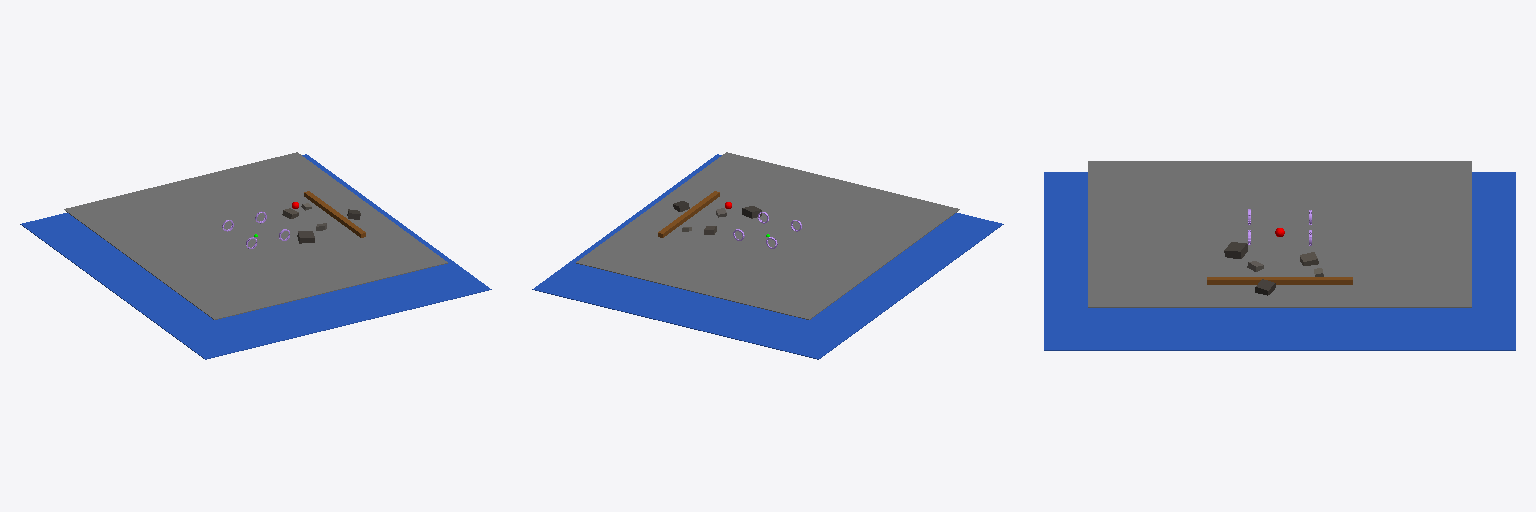
URDF robot description (0724_urdf):
<?xml version="1.0" encoding="utf-8"?>
<!-- This URDF was automatically created by SolidWorks to URDF Exporter! Originally created by Stephen Brawner (brawner@gmail.com) 
     Commit Version: 1.6.0-4-g7f85cfe  Build Version: 1.6.7995.38578
     For more information, please see http://wiki.ros.org/sw_urdf_exporter -->
<robot name="0724_urdf">

  <!-- =================================================================== -->
  <!-- ROOT LINK: ellipsoid_surface (4.341m x 4.852m)                      -->
  <!-- =================================================================== -->
  <link name="ellipsoid_surface">
    <inertial>
      <origin xyz="0 0 0" rpy="0 0 0" />
      <mass value="30.0" />
      <inertia ixx="3.0" ixy="0" ixz="0" iyy="2.4" iyz="0" izz="5.0" />
    </inertial>
    <visual>
      <origin xyz="0 0 0" rpy="0 0 0" />
      <geometry>
        <box size="4.341 4.852 0.01" />
      </geometry>
      <material name="ellipsoid_mat">
        <color rgba="0.2 0.4 0.8 0.5" />
      </material>
    </visual>
    <collision>
      <origin xyz="0 0 0" rpy="0 0 0" />
      <geometry>
        <box size="4.341 4.852 0.01" />
      </geometry>
    </collision>
  </link>

  <!-- =================================================================== -->
  <!-- LINK: ground_sphere (기준 구)                                       -->
  <!-- =================================================================== -->
  <link name="ground_sphere">
    <inertial>
      <origin xyz="0 0 0" rpy="0 0 0" />
      <mass value="0.1" />
      <inertia ixx="0.0001" ixy="0" ixz="0" iyy="0.0001" iyz="0" izz="0.0001" />
    </inertial>
    <visual>
      <origin xyz="0 0 0" rpy="0 0 0" />
      <geometry>
        <sphere radius="0.03" />
      </geometry>
      <material name="green_material">
        <color rgba="0.0 1.0 0.0 1.0" />
      </material>
    </visual>
    <collision>
      <origin xyz="0 0 0" rpy="0 0 0" />
      <geometry>
        <sphere radius="0.03" />
      </geometry>
    </collision>
  </link>

  <joint name="ellipsoid_to_sphere_joint" type="fixed">
    <origin xyz="0 0 0.30" rpy="0 0 0" />
    <parent link="ellipsoid_surface" />
    <child link="ground_sphere" />
  </joint>

  <!-- =================================================================== -->
  <!-- LINK: ground (3.544m x 3.964m)                                     -->
  <!-- =================================================================== -->
  <link name="ground">
    <inertial>
      <origin xyz="0 0 0" rpy="0 0 0" />
      <mass value="10.0" />
      <inertia ixx="0.818" ixy="0" ixz="0" iyy="0.654" iyz="0" izz="1.472" />
    </inertial>
    <visual>
      <origin xyz="0 0 0" rpy="0 0 0" />
      <geometry>
        <box size="3.544 3.964 0.01" />
      </geometry>
      <material name="ground_mat">
        <color rgba="0.5 0.5 0.5 0.8" />
      </material>
    </visual>
    <collision>
      <origin xyz="0 0 0" rpy="0 0 0" />
      <geometry>
        <box size="3.544 3.964 0.01" />
      </geometry>
    </collision>
  </link>

  <joint name="ground_sphere_to_ground_joint" type="fixed">
    <origin xyz="0 0 0" rpy="0 0 0" />
    <parent link="ground_sphere" />
    <child link="ground" />
  </joint>

  <!-- =================================================================== -->
  <!-- ADDED: RECTANGULAR WOOD BAR (직사각형 각목 형태 나무막대)             -->
  <!-- =================================================================== -->
  <link name="obstacle_wood_bar">
    <inertial>
      <origin xyz="0 0 0" rpy="0 0 0" />
      <mass value="2.0" />
      <inertia ixx="0.37" ixy="0" ixz="0" iyy="0.001" iyz="0" izz="0.37" />
    </inertial>
    <visual>
      <origin xyz="0 0 0" rpy="0 0 0" />
      <geometry>
        <!-- 폭 0.08m, 길이 1.5m, 높이 0.06m (바퀴 높이 절반) -->
        <box size="0.08 1.5 0.06" />
      </geometry>
      <material name="wood_mat">
        <color rgba="0.55 0.35 0.15 1.0" />
      </material>
    </visual>
    <collision>
      <origin xyz="0 0 0" rpy="0 0 0" />
      <geometry>
        <box size="0.08 1.5 0.06" />
      </geometry>
    </collision>
  </link>

  <joint name="ground_to_wood_bar_joint" type="fixed">
    <origin xyz="1.2 0.0 0.035" rpy="0 0 0" />
    <parent link="ground" />
    <child link="obstacle_wood_bar" />
  </joint>

  <!-- =================================================================== -->
  <!-- ADDED: MULTIPLE ROCKS (다양한 위치의 돌멩이 군집)                   -->
  <!-- =================================================================== -->
  <!-- Rock 1 -->
  <link name="obstacle_rock_1">
    <inertial>
      <origin xyz="0 0 0" rpy="0 0 0" />
      <mass value="1.5" />
      <inertia ixx="0.005" ixy="0" ixz="0" iyy="0.005" iyz="0" izz="0.005" />
    </inertial>
    <visual>
      <origin xyz="0 0 0" rpy="0 0 0" />
      <geometry>
        <box size="0.14 0.16 0.07" />
      </geometry>
      <material name="rock_mat_1">
        <color rgba="0.38 0.35 0.32 1.0" />
      </material>
    </visual>
    <collision>
      <origin xyz="0 0 0" rpy="0 0 0" />
      <geometry>
        <box size="0.14 0.16 0.07" />
      </geometry>
    </collision>
  </link>

  <joint name="ground_to_rock_1_joint" type="fixed">
    <origin xyz="0.7 0.3 0.04" rpy="0.1 0.15 0.3" />
    <parent link="ground" />
    <child link="obstacle_rock_1" />
  </joint>

  <!-- Rock 2 -->
  <link name="obstacle_rock_2">
    <inertial>
      <origin xyz="0 0 0" rpy="0 0 0" />
      <mass value="1.2" />
      <inertia ixx="0.004" ixy="0" ixz="0" iyy="0.004" iyz="0" izz="0.004" />
    </inertial>
    <visual>
      <origin xyz="0 0 0" rpy="0 0 0" />
      <geometry>
        <box size="0.12 0.12 0.06" />
      </geometry>
      <material name="rock_mat_2">
        <color rgba="0.42 0.40 0.38 1.0" />
      </material>
    </visual>
    <collision>
      <origin xyz="0 0 0" rpy="0 0 0" />
      <geometry>
        <box size="0.12 0.12 0.06" />
      </geometry>
    </collision>
  </link>

  <joint name="ground_to_rock_2_joint" type="fixed">
    <origin xyz="0.85 -0.25 0.035" rpy="-0.2 0.1 0.8" />
    <parent link="ground" />
    <child link="obstacle_rock_2" />
  </joint>

  <!-- Rock 3 -->
  <link name="obstacle_rock_3">
    <inertial>
      <origin xyz="0 0 0" rpy="0 0 0" />
      <mass value="2.2" />
      <inertia ixx="0.008" ixy="0" ixz="0" iyy="0.008" iyz="0" izz="0.008" />
    </inertial>
    <visual>
      <origin xyz="0 0 0" rpy="0 0 0" />
      <geometry>
        <box size="0.18 0.20 0.09" />
      </geometry>
      <material name="rock_mat_3">
        <color rgba="0.32 0.30 0.28 1.0" />
      </material>
    </visual>
    <collision>
      <origin xyz="0 0 0" rpy="0 0 0" />
      <geometry>
        <box size="0.18 0.20 0.09" />
      </geometry>
    </collision>
  </link>

  <joint name="ground_to_rock_3_joint" type="fixed">
    <origin xyz="0.5 -0.45 0.05" rpy="0.05 -0.1 1.2" />
    <parent link="ground" />
    <child link="obstacle_rock_3" />
  </joint>

  <!-- Rock 4 -->
  <link name="obstacle_rock_4">
    <inertial>
      <origin xyz="0 0 0" rpy="0 0 0" />
      <mass value="0.8" />
      <inertia ixx="0.002" ixy="0" ixz="0" iyy="0.002" iyz="0" izz="0.002" />
    </inertial>
    <visual>
      <origin xyz="0 0 0" rpy="0 0 0" />
      <geometry>
        <box size="0.10 0.09 0.05" />
      </geometry>
      <material name="rock_mat_4">
        <color rgba="0.45 0.43 0.40 1.0" />
      </material>
    </visual>
    <collision>
      <origin xyz="0 0 0" rpy="0 0 0" />
      <geometry>
        <box size="0.10 0.09 0.05" />
      </geometry>
    </collision>
  </link>

  <joint name="ground_to_rock_4_joint" type="fixed">
    <origin xyz="1.0 0.4 0.03" rpy="0.2 0.2 0.1" />
    <parent link="ground" />
    <child link="obstacle_rock_4" />
  </joint>

  <!-- Rock 5 -->
  <link name="obstacle_rock_5">
    <inertial>
      <origin xyz="0 0 0" rpy="0 0 0" />
      <mass value="1.8" />
      <inertia ixx="0.006" ixy="0" ixz="0" iyy="0.006" iyz="0" izz="0.006" />
    </inertial>
    <visual>
      <origin xyz="0 0 0" rpy="0 0 0" />
      <geometry>
        <box size="0.16 0.15 0.08" />
      </geometry>
      <material name="rock_mat_5">
        <color rgba="0.30 0.28 0.26 1.0" />
      </material>
    </visual>
    <collision>
      <origin xyz="0 0 0" rpy="0 0 0" />
      <geometry>
        <box size="0.16 0.15 0.08" />
      </geometry>
    </collision>
  </link>

  <joint name="ground_to_rock_5_joint" type="fixed">
    <origin xyz="1.4 -0.15 0.045" rpy="-0.1 0.15 -0.5" />
    <parent link="ground" />
    <child link="obstacle_rock_5" />
  </joint>

  <!-- =================================================================== -->
  <!-- CAR FRAME                                                           -->
  <!-- =================================================================== -->
  <link name="car_frame">
    <inertial>
      <origin xyz="-0.0699924818342827 4.77680336962046E-09 0.266986488786553" rpy="0 0 0" />
      <mass value="4.36726752622487" />
      <inertia ixx="0.120130237589006" ixy="2.47975489095435E-06" ixz="-3.27227207151588E-05" iyy="0.191286662671253" iyz="2.68105956435735E-10" izz="0.301245720968892" />
    </inertial>
    <visual>
      <origin xyz="0 0 0" rpy="0 0 0" />
      <geometry>
        <mesh filename="../meshes/car_frame.STL" />
      </geometry>
      <material name="car_frame_mat">
        <color rgba="0.894117647058823 0.894117647058823 0.894117647058823 1" />
      </material>
    </visual>
    <collision>
      <origin xyz="0 0 0" rpy="0 0 0" />
      <geometry>
        <mesh filename="../meshes/car_frame.STL" />
      </geometry>
    </collision>
  </link>

  <joint name="ground_to_car_frame_joint" type="fixed">
    <origin xyz="0 0 0.005" rpy="0 0 0" />
    <parent link="ground" />
    <child link="car_frame" />
  </joint>

  <!-- =================================================================== -->
  <!-- LINK: RED SPHERE (전방 X축 배치)                                   -->
  <!-- =================================================================== -->
  <link name="front_target_sphere">
    <inertial>
      <origin xyz="0 0 0" rpy="0 0 0" />
      <mass value="0.05" />
      <inertia ixx="0.00005" ixy="0" ixz="0" iyy="0.00005" iyz="0" izz="0.00005" />
    </inertial>
    <visual>
      <origin xyz="0 0 0" rpy="0 0 0" />
      <geometry>
        <sphere radius="0.05" />
      </geometry>
      <material name="red_material">
        <color rgba="1.0 0.0 0.0 1.0" />
      </material>
    </visual>
    <collision>
      <origin xyz="0 0 0" rpy="0 0 0" />
      <geometry>
        <sphere radius="0.05" />
      </geometry>
    </collision>
  </link>

  <joint name="front_target_joint" type="fixed">
    <origin xyz="0.6 0 0.3" rpy="0 0 0" />
    <parent link="car_frame" />
    <child link="front_target_sphere" />
  </joint>

  <!-- =================================================================== -->
  <!-- SWING & WHEELS                                                      -->
  <!-- =================================================================== -->
  <link name="swing_link">
    <inertial>
      <origin xyz="2.89027833825533E-08 0.0605903676257634 0.00266440834148721" rpy="0 0 0" />
      <mass value="1.44344385530309" />
      <inertia ixx="0.00290322324922314" ixy="-5.3629396489287E-10" ixz="-2.47940935714728E-06" iyy="0.00598687173589356" iyz="3.64864367309232E-06" izz="0.00529337280538947" />
    </inertial>
    <visual>
      <origin xyz="0 0 0" rpy="0 0 0" />
      <geometry>
        <mesh filename="../meshes/swing_link.STL" />
      </geometry>
      <material name="swing_mat">
        <color rgba="0.894117647058823 0.894117647058823 0.894117647058823 1" />
      </material>
    </visual>
    <collision>
      <origin xyz="0 0 0" rpy="0 0 0" />
      <geometry>
        <mesh filename="../meshes/swing_link.STL" />
      </geometry>
    </collision>
  </link>

  <joint name="swing_joint" type="revolute">
    <origin xyz="0.226 0 0.19572" rpy="-1.5708 0 -1.5708" />
    <parent link="car_frame" />
    <child link="swing_link" />
    <axis xyz="0 0 1" />
    <limit lower="-0.2" upper="0.2" effort="10.0" velocity="1.0" />
  </joint>

  <!-- WHEEL FR & TIRE FR -->
  <link name="wheel_fr">
    <inertial>
      <origin xyz="-0.00570311862923931 0.0422312078327481 -0.00829956160844914" rpy="0 0 0" />
      <mass value="0.304138859926848" />
      <inertia ixx="0.000395045316087024" ixy="-2.69138802125918E-06" ixz="-4.80158404940406E-07" iyy="0.000414316538014111" iyz="3.47729172120058E-06" izz="0.000760266253987474" />
    </inertial>
    <visual>
      <origin xyz="0 0 0" rpy="0 0 0" />
      <geometry>
        <mesh filename="../meshes/wheel_fr.STL" />
      </geometry>
      <material name="green_wheel">
        <color rgba="0 1 0 1" />
      </material>
    </visual>
    <collision>
      <origin xyz="0 0 0" rpy="0 0 0" />
      <geometry>
        <mesh filename="../meshes/wheel_fr.STL" />
      </geometry>
    </collision>
  </link>

  <joint name="wheel_fr_joint" type="continuous">
    <origin xyz="0.32225 0.1648 0.03" rpy="1.5708 -1.5108 1.5708" />
    <parent link="swing_link" />
    <child link="wheel_fr" />
    <axis xyz="0 0 -1" />
  </joint>

  <link name="tire_fr">
    <inertial>
      <origin xyz="7.76422831502976E-05 0.00868726029411421 0.0001059050331738" rpy="0 0 0" />
      <mass value="0.165142633558274" />
      <inertia ixx="0.000463075796975926" ixy="-5.44937415188666E-09" ixz="7.50961713471071E-07" iyy="0.000907319831290129" iyz="-7.43304666822633E-09" izz="0.000463549564232601" />
    </inertial>
    <visual>
      <origin xyz="0 0 0" rpy="0 0 0" />
      <geometry>
        <mesh filename="../meshes/tire_fr.STL" />
      </geometry>
      <material name="purple_tire">
        <color rgba="0.796078431372549 0.623529411764706 1 1" />
      </material>
    </visual>
    <collision>
      <origin xyz="0 0 0" rpy="0 0 0" />
      <geometry>
        <mesh filename="../meshes/tire_fr.STL" />
      </geometry>
    </collision>
  </link>

  <joint name="tire_fr_joint" type="continuous">
    <origin xyz="-0.0064373 0.047566 0.003" rpy="-1.5708 0 -2.4469" />
    <parent link="wheel_fr" />
    <child link="tire_fr" />
    <axis xyz="0 1 0" />
  </joint>

  <!-- WHEEL FL & TIRE FL -->
  <link name="wheel_fl">
    <inertial>
      <origin xyz="-0.00570311862923928 0.0422312078327481 -0.00829956160844919" rpy="0 0 0" />
      <mass value="0.304138859926847" />
      <inertia ixx="0.000395045316087023" ixy="-2.69138802125915E-06" ixz="-4.80158404940521E-07" iyy="0.00041431653801411" iyz="3.47729172120065E-06" izz="0.000760266253987473" />
    </inertial>
    <visual>
      <origin xyz="0 0 0" rpy="0 0 0" />
      <geometry>
        <mesh filename="../meshes/wheel_fl.STL" />
      </geometry>
      <material name="green_wheel" />
    </visual>
    <collision>
      <origin xyz="0 0 0" rpy="0 0 0" />
      <geometry>
        <mesh filename="../meshes/wheel_fl.STL" />
      </geometry>
    </collision>
  </link>

  <joint name="wheel_fl_joint" type="continuous">
    <origin xyz="-0.32225 0.1648 0.03" rpy="-1.5708 1.5108 1.5708" />
    <parent link="swing_link" />
    <child link="wheel_fl" />
    <axis xyz="0 0 1" />
  </joint>

  <link name="tire_fl">
    <inertial>
      <origin xyz="7.7642283151047E-05 0.00868726029411437 0.000105905033174342" rpy="0 0 0" />
      <mass value="0.165142633558273" />
      <inertia ixx="0.000463075796975928" ixy="-5.44937415162008E-09" ixz="7.5096171347E-07" iyy="0.000907319831290127" iyz="-7.43304666820223E-09" izz="0.000463549564232599" />
    </inertial>
    <visual>
      <origin xyz="0 0 0" rpy="0 0 0" />
      <geometry>
        <mesh filename="../meshes/tire_fl.STL" />
      </geometry>
      <material name="purple_tire" />
    </visual>
    <collision>
      <origin xyz="0 0 0" rpy="0 0 0" />
      <geometry>
        <mesh filename="../meshes/tire_fl.STL" />
      </geometry>
    </collision>
  </link>

  <joint name="tire_fl_joint" type="continuous">
    <origin xyz="-0.0064373 0.047566 0.003" rpy="-1.5708 0 -2.4469" />
    <parent link="wheel_fl" />
    <child link="tire_fl" />
    <axis xyz="0 -1 0" />
  </joint>

  <!-- WHEEL RR & TIRE RR -->
  <link name="wheel_rr">
    <inertial>
      <origin xyz="-0.00570311862923931 0.0422312078327481 -0.00829956160844908" rpy="0 0 0" />
      <mass value="0.304138859926848" />
      <inertia ixx="0.000395045316087024" ixy="-2.6913880212591E-06" ixz="-4.80158404939289E-07" iyy="0.000414316538014111" iyz="3.47729172120071E-06" izz="0.000760266253987474" />
    </inertial>
    <visual>
      <origin xyz="0 0 0" rpy="0 0 0" />
      <geometry>
        <mesh filename="../meshes/wheel_rr.STL" />
      </geometry>
      <material name="green_wheel" />
    </visual>
    <collision>
      <origin xyz="0 0 0" rpy="0 0 0" />
      <geometry>
        <mesh filename="../meshes/wheel_rr.STL" />
      </geometry>
    </collision>
  </link>

  <joint name="wheel_rr_joint" type="continuous">
    <origin xyz="-0.244 -0.32225 0.030922" rpy="1.5708 0.059958 0" />
    <parent link="car_frame" />
    <child link="wheel_rr" />
    <axis xyz="0 0 -1" />
  </joint>

  <link name="tire_rr">
    <inertial>
      <origin xyz="7.76422831505197E-05 0.00868726029411432 0.00010590503317362" rpy="0 0 0" />
      <mass value="0.165142633558276" />
      <inertia ixx="0.00046307579697593" ixy="-5.44937415025454E-09" ixz="7.50961713472426E-07" iyy="0.000907319831290135" iyz="-7.43304666863456E-09" izz="0.000463549564232603" />
    </inertial>
    <visual>
      <origin xyz="0 0 0" rpy="0 0 0" />
      <geometry>
        <mesh filename="../meshes/tire_rr.STL" />
      </geometry>
      <material name="purple_tire" />
    </visual>
    <collision>
      <origin xyz="0 0 0" rpy="0 0 0" />
      <geometry>
        <mesh filename="../meshes/tire_rr.STL" />
      </geometry>
    </collision>
  </link>

  <joint name="tire_rr_joint" type="continuous">
    <origin xyz="-0.0064373 0.047566 0.003" rpy="-1.5708 0 -2.4469" />
    <parent link="wheel_rr" />
    <child link="tire_rr" />
    <axis xyz="0 1 0" />
  </joint>

  <!-- WHEEL RL & TIRE RL -->
  <link name="wheel_rl">
    <inertial>
      <origin xyz="-0.00570311862923939 0.0422312078327481 -0.00829956160844914" rpy="0 0 0" />
      <mass value="0.304138859926847" />
      <inertia ixx="0.000395045316087023" ixy="-2.6913880212591E-06" ixz="-4.80158404939232E-07" iyy="0.000414316538014111" iyz="3.47729172120071E-06" izz="0.000760266253987473" />
    </inertial>
    <visual>
      <origin xyz="0 0 0" rpy="0 0 0" />
      <geometry>
        <mesh filename="../meshes/wheel_rl.STL" />
      </geometry>
      <material name="green_wheel" />
    </visual>
    <collision>
      <origin xyz="0 0 0" rpy="0 0 0" />
      <geometry>
        <mesh filename="../meshes/wheel_rl.STL" />
      </geometry>
    </collision>
  </link>

  <joint name="wheel_rl_joint" type="continuous">
    <origin xyz="-0.244 0.32225 0.030922" rpy="1.5708 0.059958 -3.1416" />
    <parent link="car_frame" />
    <child link="wheel_rl" />
    <axis xyz="0 0 1" />
  </joint>

  <link name="tire_rl">
    <inertial>
      <origin xyz="7.76422831503532E-05 0.00868726029411443 0.00010590503317405" rpy="0 0 0" />
      <mass value="0.165142633558276" />
      <inertia ixx="0.000463075796975933" ixy="-5.44937414973503E-09" ixz="7.50961713469743E-07" iyy="0.000907319831290136" iyz="-7.43304666839591E-09" izz="0.000463549564232602" />
    </inertial>
    <visual>
      <origin xyz="0 0 0" rpy="0 0 0" />
      <geometry>
        <mesh filename="../meshes/tire_rl.STL" />
      </geometry>
      <material name="purple_tire" />
    </visual>
    <collision>
      <origin xyz="0 0 0" rpy="0 0 0" />
      <geometry>
        <mesh filename="../meshes/tire_rl.STL" />
      </geometry>
    </collision>
  </link>

  <joint name="tire_rl_joint" type="continuous">
    <origin xyz="-0.0064373 0.047566 0.003" rpy="-1.5708 0 -2.4469" />
    <parent link="wheel_rl" />
    <child link="tire_rl" />
    <axis xyz="0 -1 0" />
  </joint>

</robot>

--- Facts derived from the render (not from the file) ---
Views: 3 orthographic renders of the robot side by side, from view 1: azimuth 30°, elevation 25°; view 2: azimuth 150°, elevation 25°; view 3: azimuth 270°, elevation 25°.
Model 0724_urdf with 20 links and 19 joints (1 revolute, 8 continuous, 10 fixed), rooted at ellipsoid_surface, posed every joint at zero.
Visible links, largest first — view 1: ground, ellipsoid_surface, obstacle_wood_bar; view 2: ground, ellipsoid_surface, obstacle_wood_bar; view 3: ground, ellipsoid_surface, obstacle_wood_bar.
Boxes of the visible links, x1=… form: ground: x1=64, y1=152, x2=447, y2=319; ellipsoid_surface: x1=20, y1=154, x2=491, y2=359; obstacle_wood_bar: x1=304, y1=191, x2=365, y2=237; ground: x1=576, y1=152, x2=959, y2=319; ellipsoid_surface: x1=532, y1=154, x2=1003, y2=359; obstacle_wood_bar: x1=658, y1=191, x2=719, y2=237; ground: x1=1088, y1=161, x2=1471, y2=307; ellipsoid_surface: x1=1044, y1=172, x2=1515, y2=350; obstacle_wood_bar: x1=1207, y1=277, x2=1352, y2=284.
Size in the robot's own frame: 4.34 by 4.85 by 0.66 metres.
4 mesh visuals loaded from 10 distinct referenced files (4 binary STL); not drawn: 6 (reference not matched to a file when rendering).
